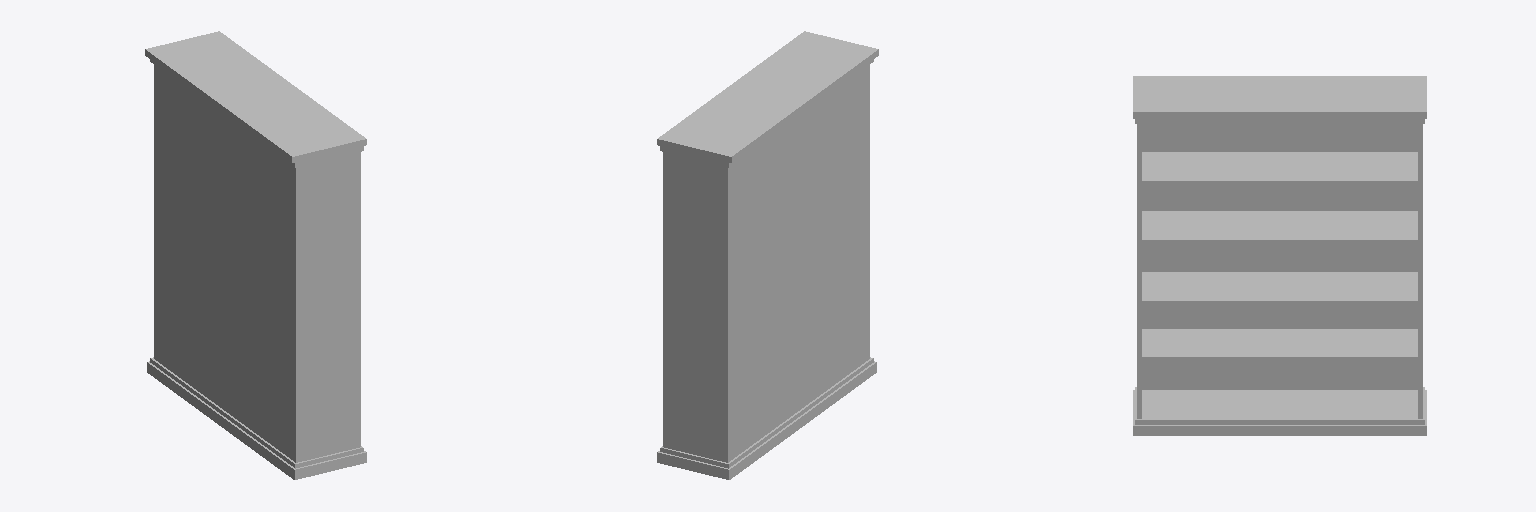
Rendered from shelve.obj.
3 views of the same model, side by side, from view 1: azimuth 30°, elevation 25°; view 2: azimuth 150°, elevation 25°; view 3: azimuth 270°, elevation 25° (orthographic).
Visible parts, largest first — view 1: group[number redacted], group[number redacted], group[number redacted], group[number redacted], group[number redacted], group[number redacted]; view 2: group[number redacted], group[number redacted], group[number redacted], group[number redacted], group[number redacted], group[number redacted]; view 3: group[number redacted], group[number redacted], group[number redacted], group[number redacted], group[number redacted], group[number redacted], group[number redacted], group[number redacted], group[number redacted], group[number redacted], group[number redacted].
Boxes of the visible parts, x1=… form: group[number redacted]: x1=154, y1=65, x2=299, y2=462; group[number redacted]: x1=300, y1=152, x2=360, y2=461; group[number redacted]: x1=145, y1=31, x2=366, y2=162; group[number redacted]: x1=147, y1=361, x2=366, y2=479; group[number redacted]: x1=150, y1=357, x2=363, y2=468; group[number redacted]: x1=150, y1=59, x2=363, y2=167; group[number redacted]: x1=724, y1=65, x2=869, y2=462; group[number redacted]: x1=663, y1=152, x2=725, y2=461; group[number redacted]: x1=657, y1=31, x2=878, y2=162; group[number redacted]: x1=657, y1=361, x2=876, y2=479; group[number redacted]: x1=660, y1=357, x2=873, y2=468; group[number redacted]: x1=660, y1=59, x2=873, y2=167; group[number redacted]: x1=1142, y1=124, x2=1417, y2=389; group[number redacted]: x1=1133, y1=76, x2=1426, y2=118; group[number redacted]: x1=1135, y1=387, x2=1424, y2=424; group[number redacted]: x1=1142, y1=329, x2=1417, y2=363; group[number redacted]: x1=1142, y1=272, x2=1417, y2=306; group[number redacted]: x1=1142, y1=211, x2=1417, y2=245; group[number redacted]: x1=1142, y1=152, x2=1417, y2=186; group[number redacted]: x1=1133, y1=390, x2=1426, y2=435; group[number redacted]: x1=1418, y1=124, x2=1422, y2=418; group[number redacted]: x1=1137, y1=124, x2=1141, y2=418; group[number redacted]: x1=1135, y1=119, x2=1424, y2=123.
Bounding box in the file's own units: 0.37 × 1.54 × 1.27.